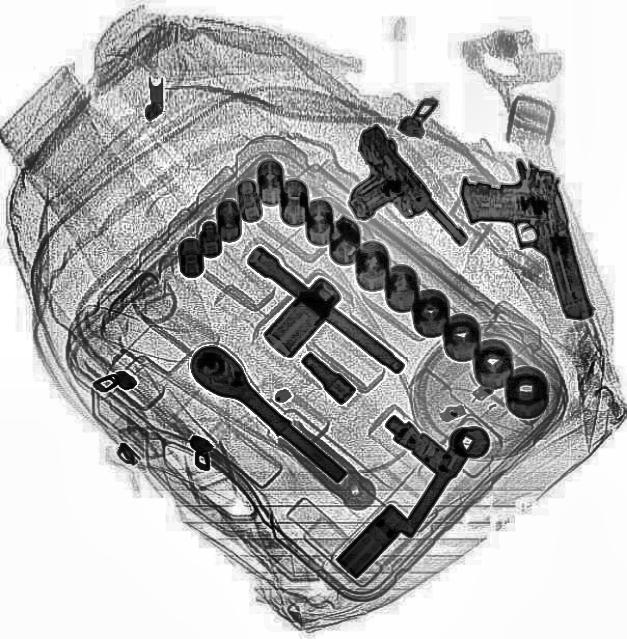Gun: (452, 150, 596, 342), (312, 119, 475, 282)
